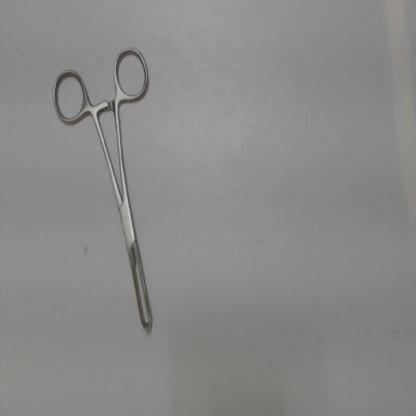Allis Tissue Forceps: (44, 36, 161, 344)
